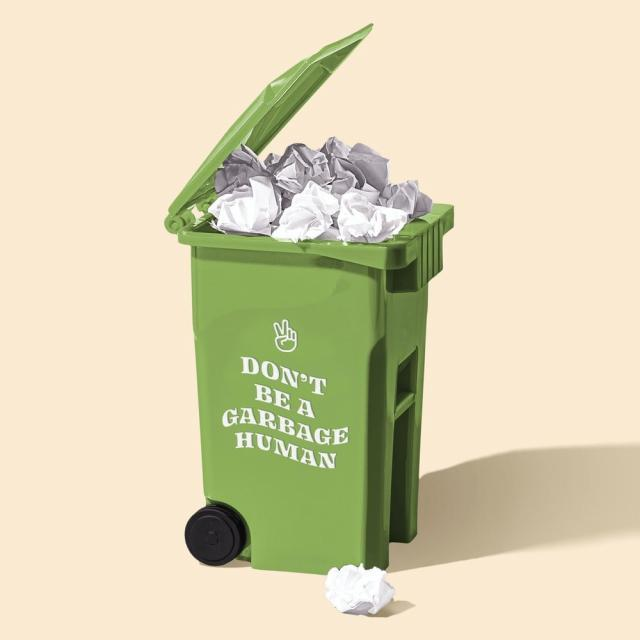Dumpster: (164, 16, 456, 570)
